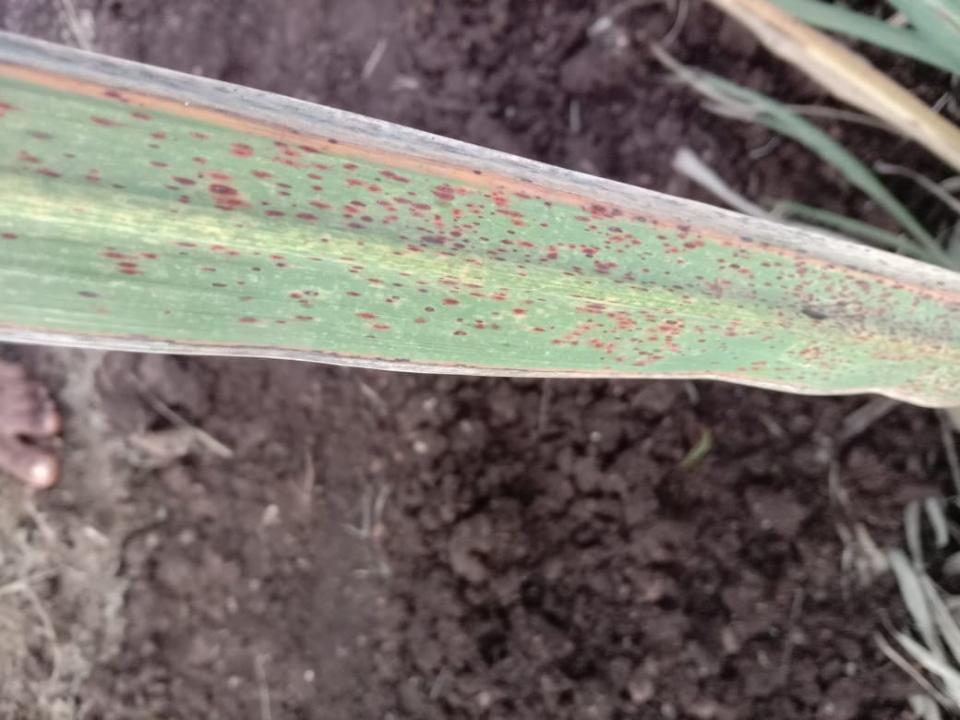Rust: (87, 88, 959, 358), (96, 237, 824, 375), (0, 95, 139, 194), (900, 362, 959, 408), (62, 283, 115, 308), (0, 222, 29, 248)
